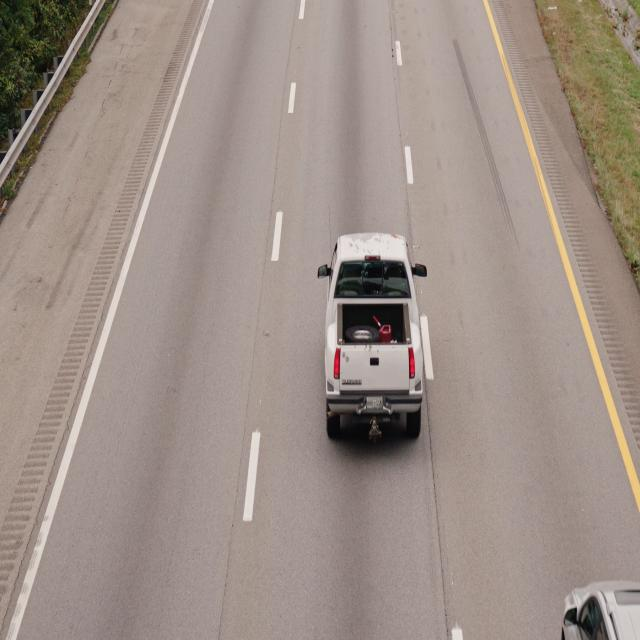Car: (314, 226, 434, 446)
